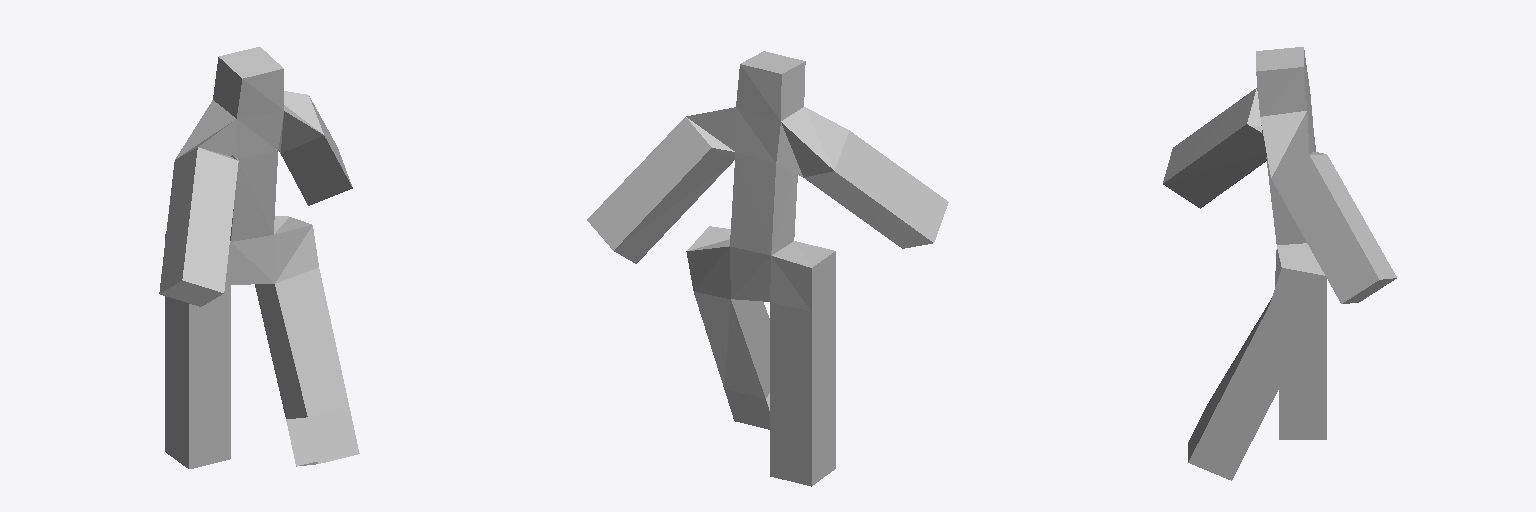
The model's file is cuboid_000009.obj.
3 renders of one model, left to right at view 1: azimuth 30°, elevation 25°; view 2: azimuth 150°, elevation 25°; view 3: azimuth 270°, elevation 25°, orthographic.
Visible parts, largest first — view 1: Cube; view 2: Cube; view 3: Cube.
Boxes of the visible parts, box(x1,y1,x2,y2) form: Cube: box(159, 47, 359, 468); Cube: box(587, 51, 948, 486); Cube: box(1163, 47, 1396, 480).
Bounding box in the file's own units: 3.15 × 4.51 × 2.44.